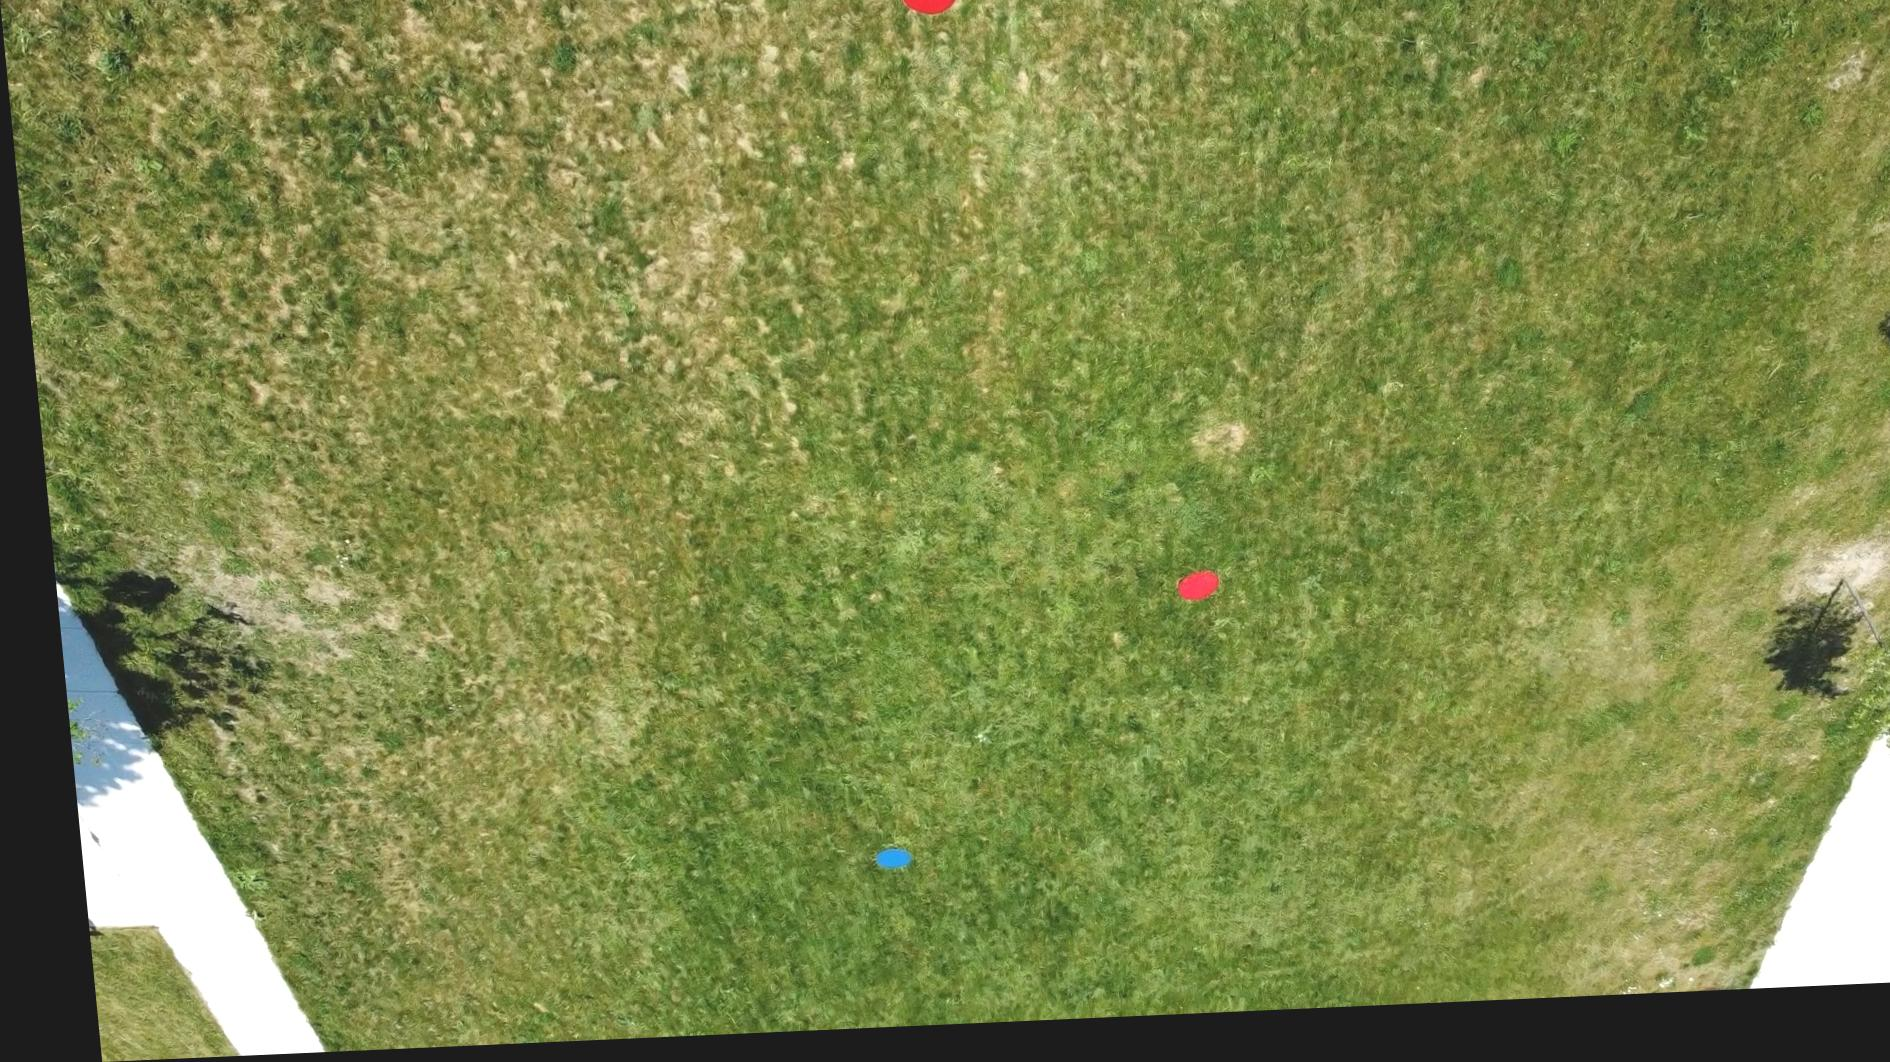Blue: (852, 852, 898, 879)
Red: (893, 0, 963, 29), (1160, 579, 1210, 611)
